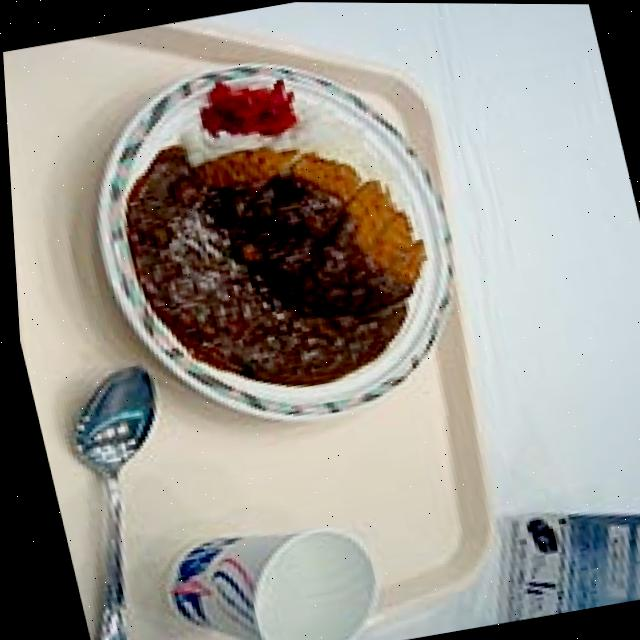猪肉菜式: (53, 21, 493, 458)
